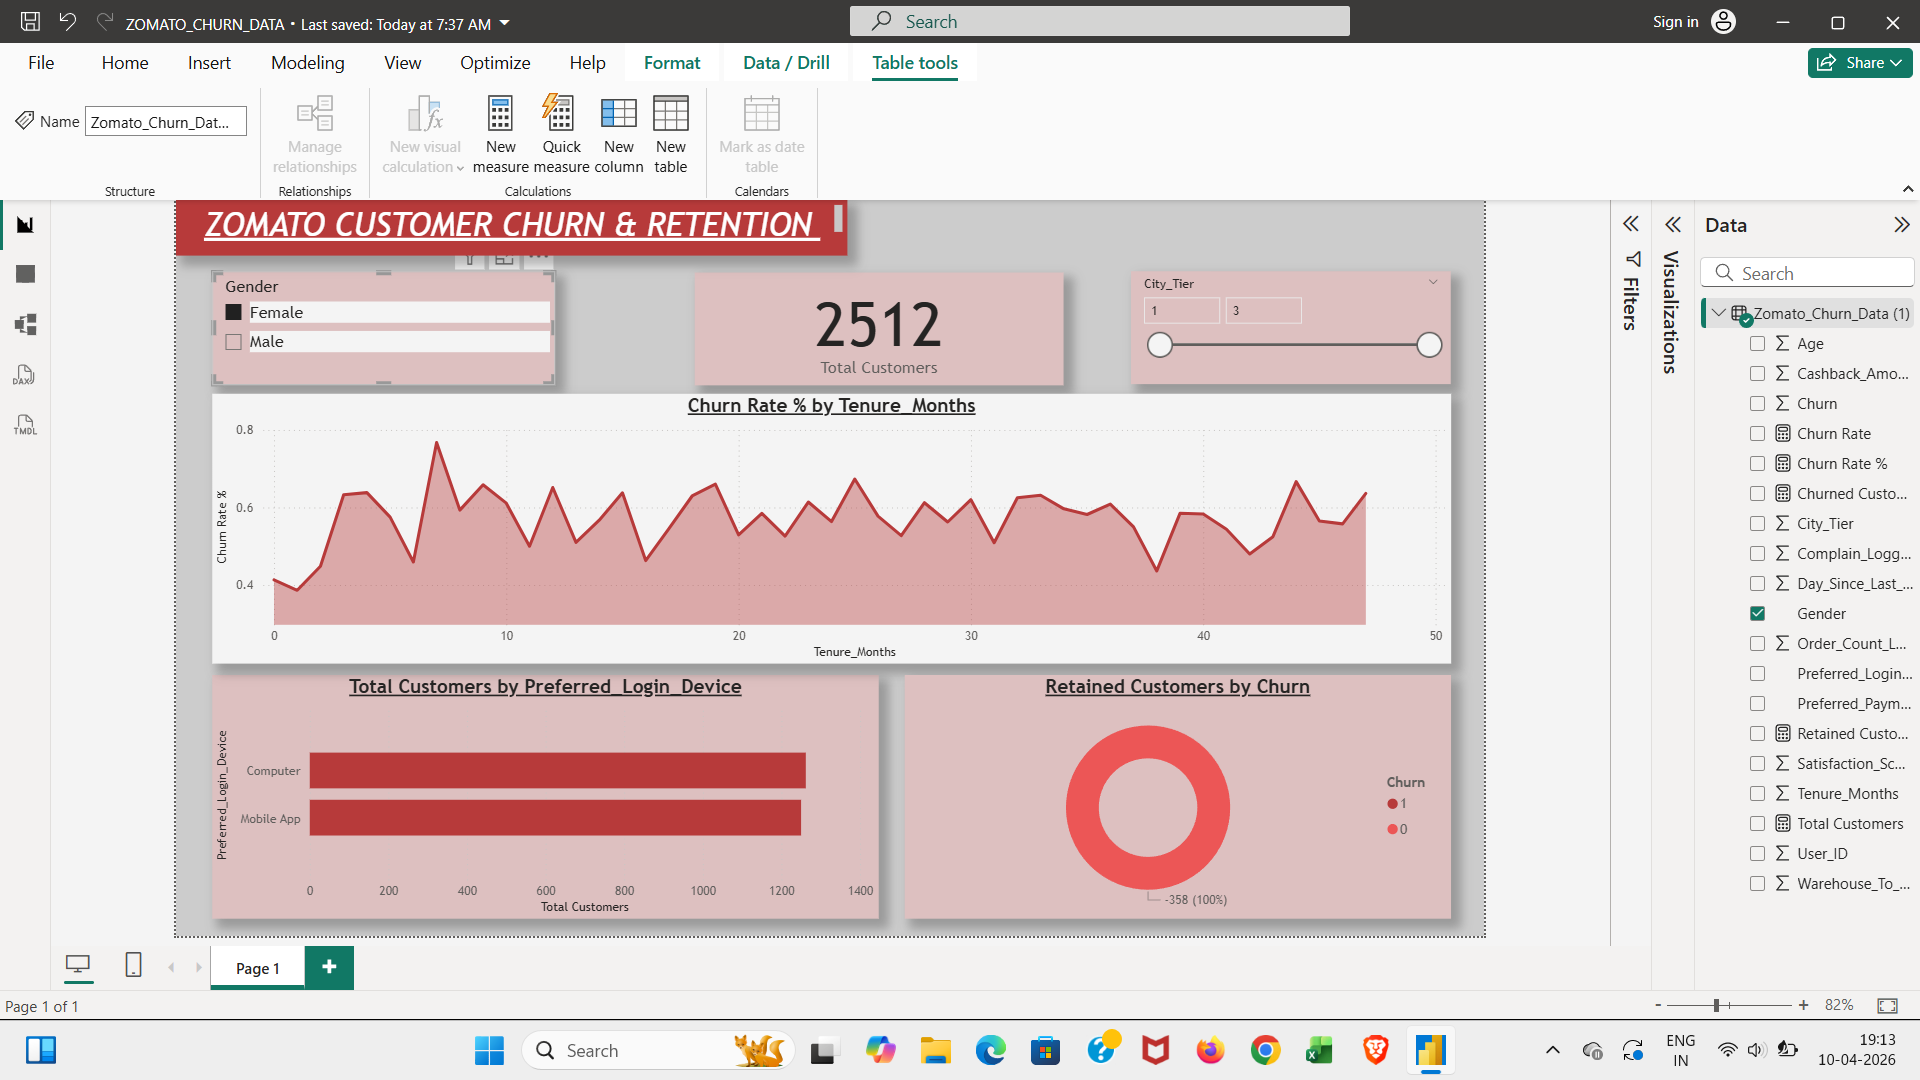

This screenshot's page, from the dashboard's own definition file:
{"tool":"powerbi","page":{"name":"Page 1","canvas":[1280,720],"ordinal":0},"visuals":[{"type":"shape","box":[0,0,1280.3,720.4],"z":0},{"type":"card","fields":{"Values":["Zomato_Churn_Data (1).Total Customers"]},"box":[507.2,71.5,360.9,110.6],"z":1000},{"type":"slicer","fields":{"Values":["Zomato_Churn_Data (1).Gender"]},"box":[35.7,69.8,335.3,110.6],"z":2000},{"type":"slicer","fields":{"Values":["Zomato_Churn_Data (1).City_Tier"]},"box":[934.5,69.8,313.2,110.6],"z":3000},{"type":"barChart","fields":{"Category":["Zomato_Churn_Data (1).Preferred_Login_Device"],"Y":["Zomato_Churn_Data (1).Total Customers"]},"box":[35.7,464.7,651.9,238.3],"z":4000},{"type":"areaChart","fields":{"Category":["Zomato_Churn_Data (1).Tenure_Months"],"Y":["Zomato_Churn_Data (1).Churn Rate %"]},"box":[35.7,188.9,1211.9,263.8],"z":5000},{"type":"donutChart","fields":{"Y":["Zomato_Churn_Data (1).Retained Customers"],"Category":["Zomato_Churn_Data (1).Churn"]},"box":[713.2,464.7,534.5,238.3],"z":6000},{"type":"textbox","box":[0,0,657,54.5],"z":7000}]}

Visuals, with their boxes on the page's 1280x720 design canvas (x1, y1, x2, y2). These are canvas units, not pixel positions in the 1920x1080 screenshot, which may show the page scaled, cropped or inside an application window:
shape: rect(0, 0, 1280, 720)
card - Zomato_Churn_Data (1).Total Customers: rect(507, 72, 868, 182)
slicer - Zomato_Churn_Data (1).Gender: rect(36, 70, 371, 180)
slicer - Zomato_Churn_Data (1).City_Tier: rect(934, 70, 1248, 180)
barChart - Zomato_Churn_Data (1).Preferred_Login_Device x Zomato_Churn_Data (1).Total Customers: rect(36, 465, 688, 703)
areaChart - Zomato_Churn_Data (1).Tenure_Months x Zomato_Churn_Data (1).Churn Rate %: rect(36, 189, 1248, 453)
donutChart - Zomato_Churn_Data (1).Retained Customers x Zomato_Churn_Data (1).Churn: rect(713, 465, 1248, 703)
textbox: rect(0, 0, 657, 54)
